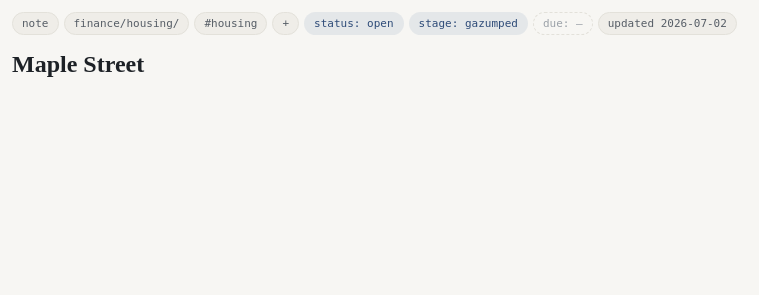
Test case: the stage chip › shows a stage no board draws rather than marking nothing over it
Click the button "stage: gazumped" at (468, 23), box [409,12,528,35]
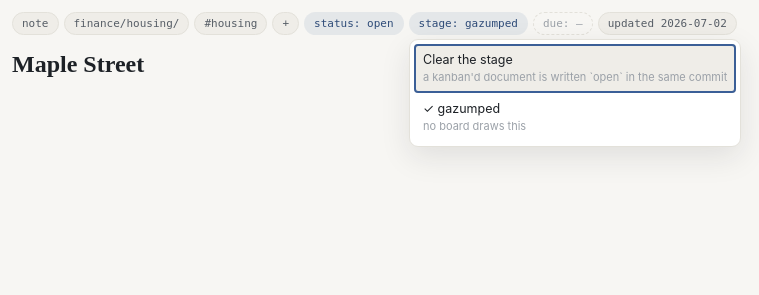
Press Escape
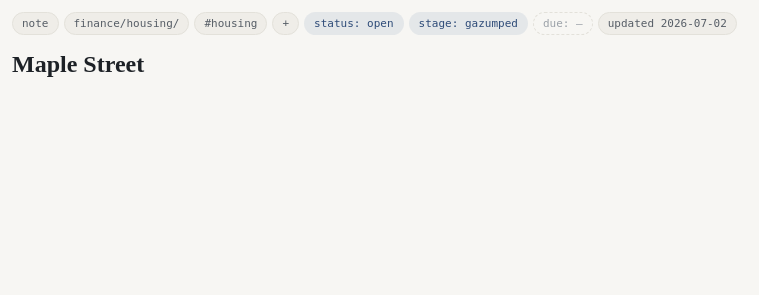
Click the button "stage: gazumped" at (468, 23), box [409,12,528,35]
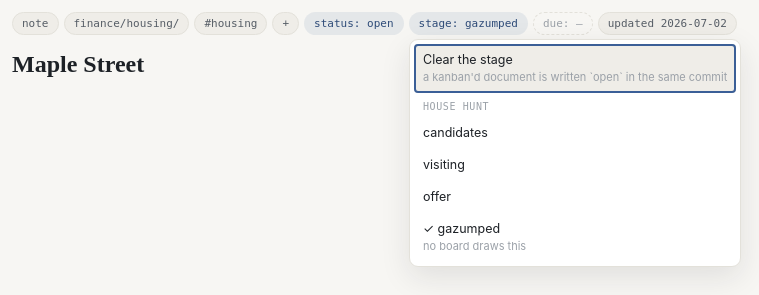
Press Escape
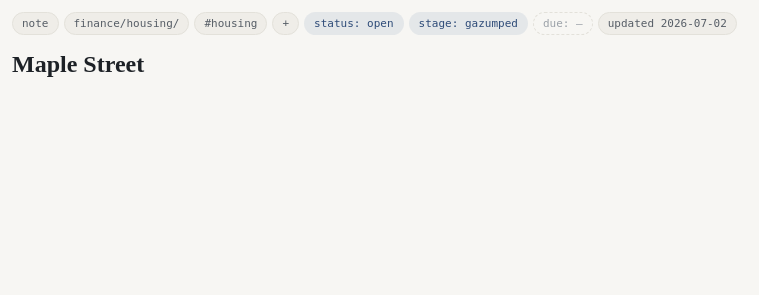
Click the button "stage: gazumped" at (468, 23), box [409,12,528,35]
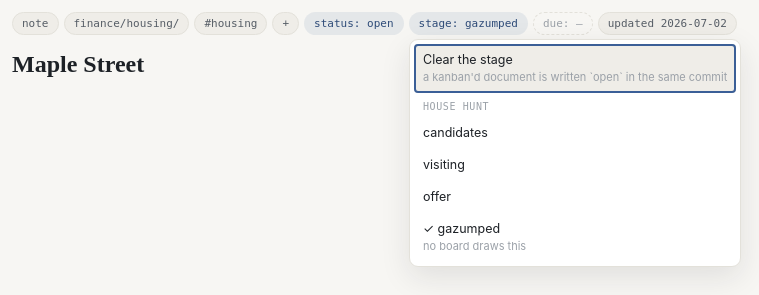
Expected: the text "✓ gazumped" is shown, [414,213,736,262]
Expected: the text "no board draws this" is shown, [423,239,526,253]
